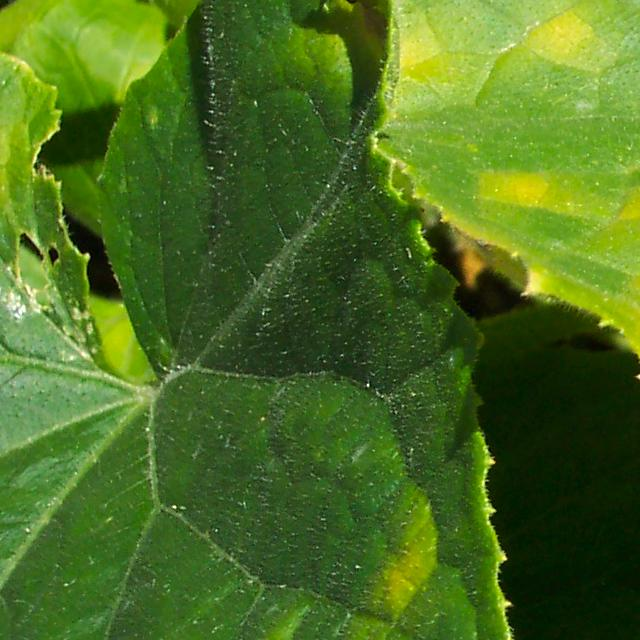Tomato mold leaf: (283, 0, 640, 640)
